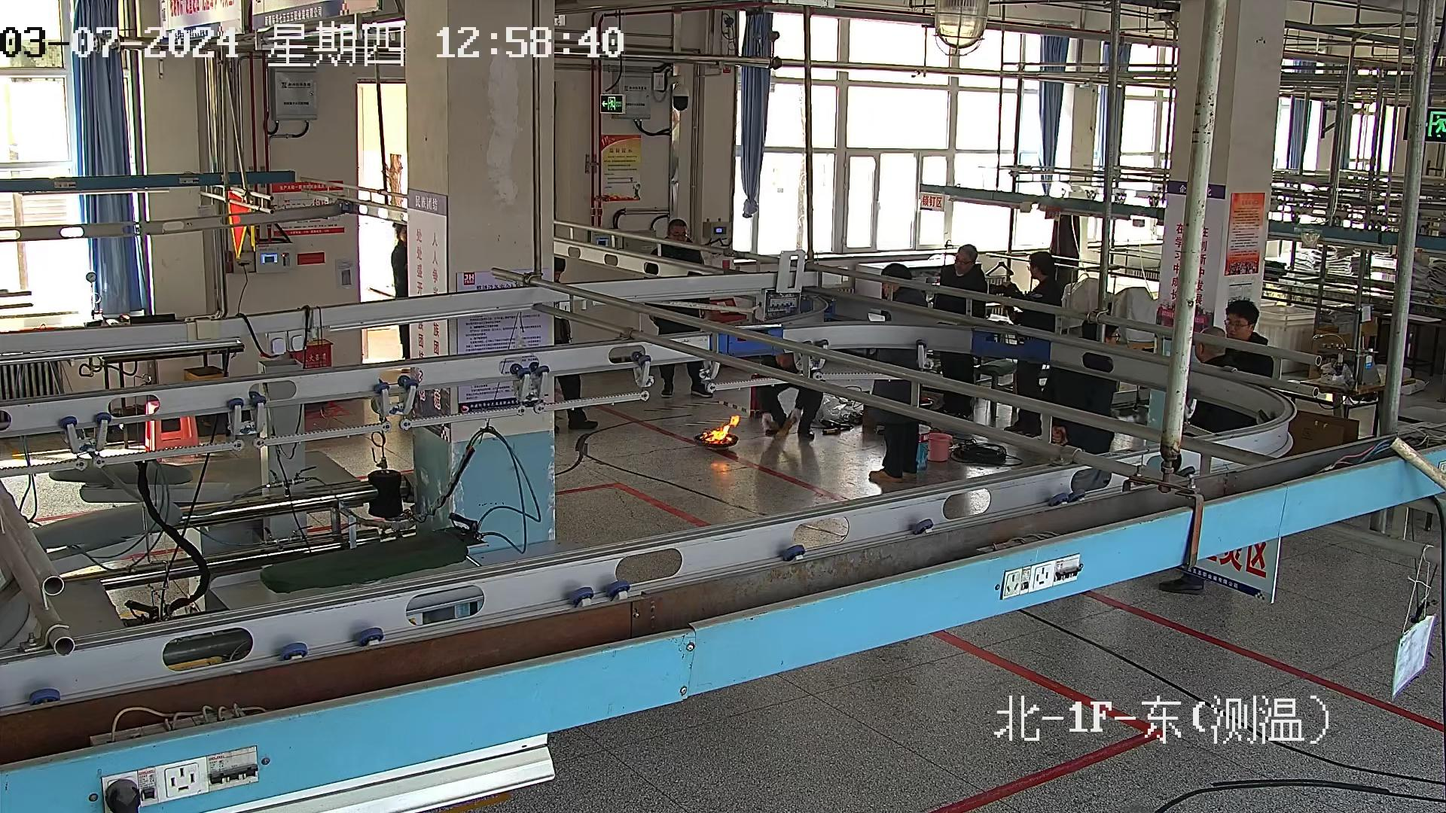fire: (694, 415, 741, 449)
